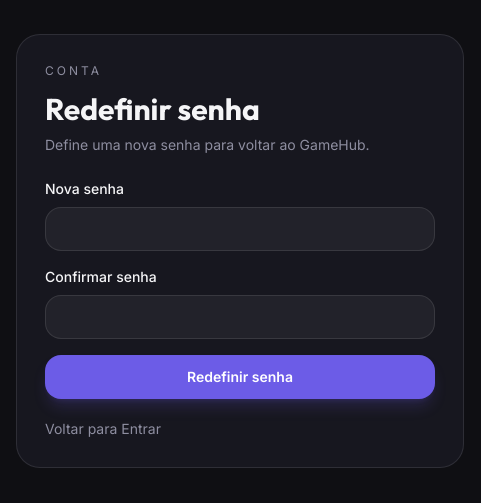
Password recovery flows (Fase 19) › shows token error feedback when reset token is invalid
The width and height of the screenshot is (481, 503).
Type "NewStrongPass123" into the password field labelled "Nova senha" at coordinates (240, 229), box [45, 207, 435, 251]
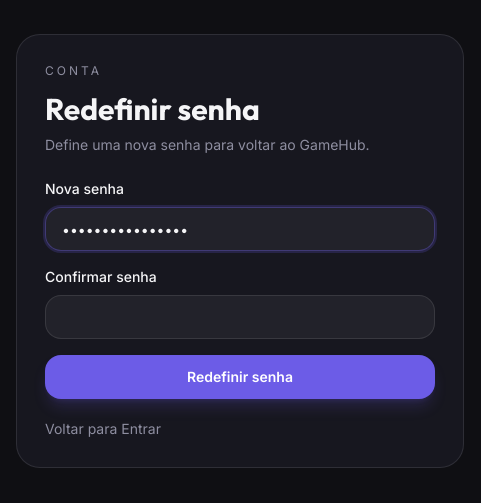
Type "NewStrongPass123" into the password field labelled "Confirmar senha" at coordinates (240, 317), box [45, 295, 435, 339]
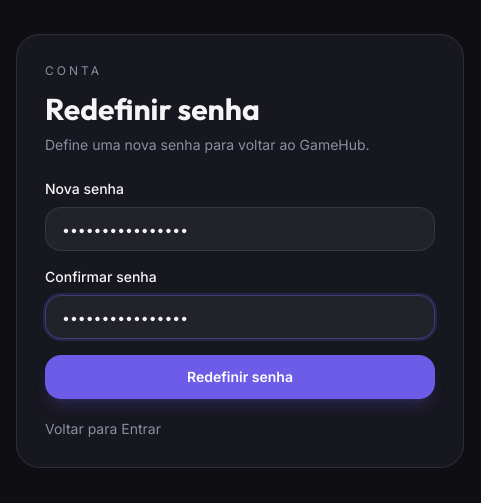
Click the button "Redefinir senha" at coordinates (240, 377), box [45, 355, 435, 399]
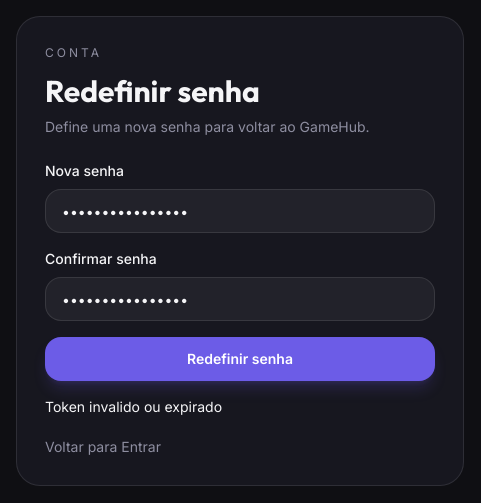
expect the text "Token invalido ou expirado" is shown: met, box [45, 398, 222, 415]
